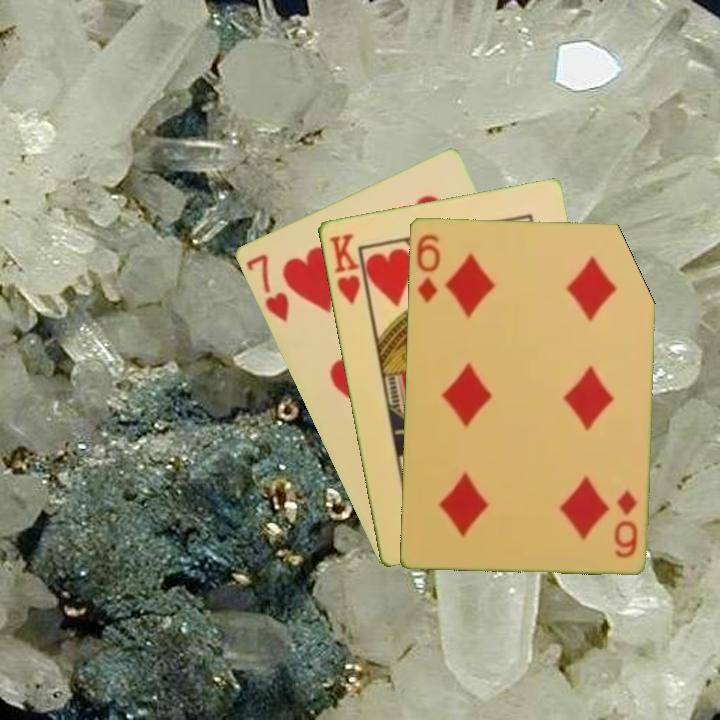6d: (412, 230, 443, 305), (610, 485, 639, 560)
7h: (242, 250, 291, 325)
Kh: (325, 229, 370, 308)
